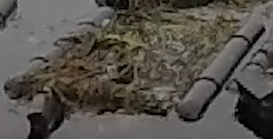bag: (1, 7, 263, 123)
